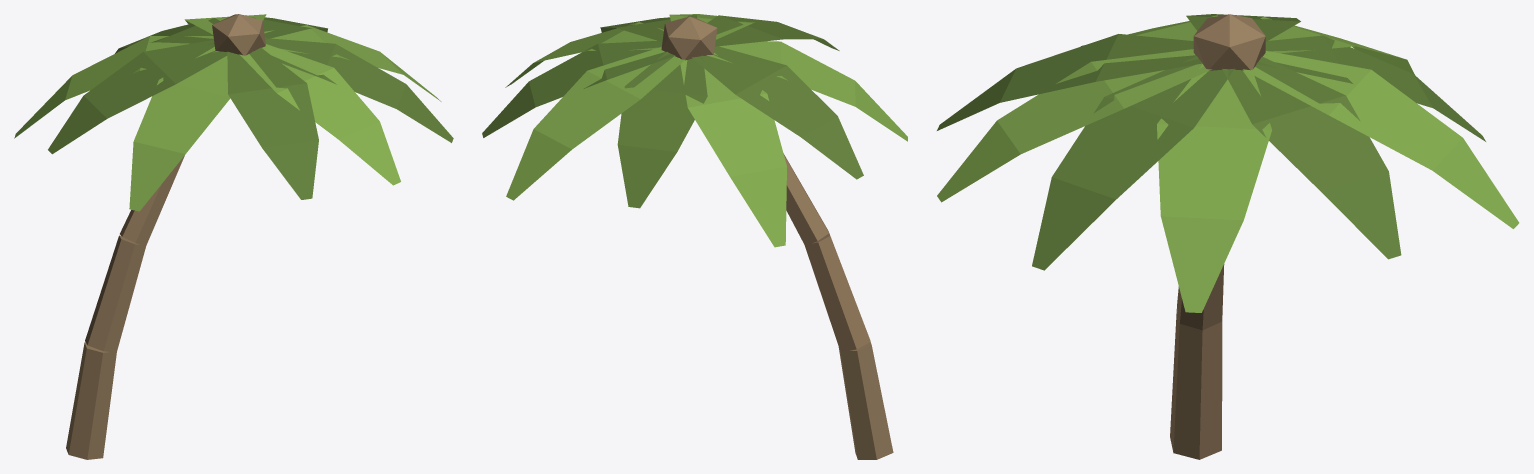
The model's file is palm-v1-autumn.glb.
3 renders of one model, left to right at view 1: azimuth 30°, elevation 25°; view 2: azimuth 150°, elevation 25°; view 3: azimuth 270°, elevation 25°, orthographic. The views are drawn at different scales.
Visible parts, largest first — view 1: palm_v1; view 2: palm_v1; view 3: palm_v1.
Boxes of the visible parts, x1,y1,x2,y2 form: palm_v1: (14, 14, 453, 459); palm_v1: (482, 14, 907, 459); palm_v1: (937, 14, 1519, 459).
Size of what is drawn, in the model's own units: 5.93 by 5.98 by 5.77.
